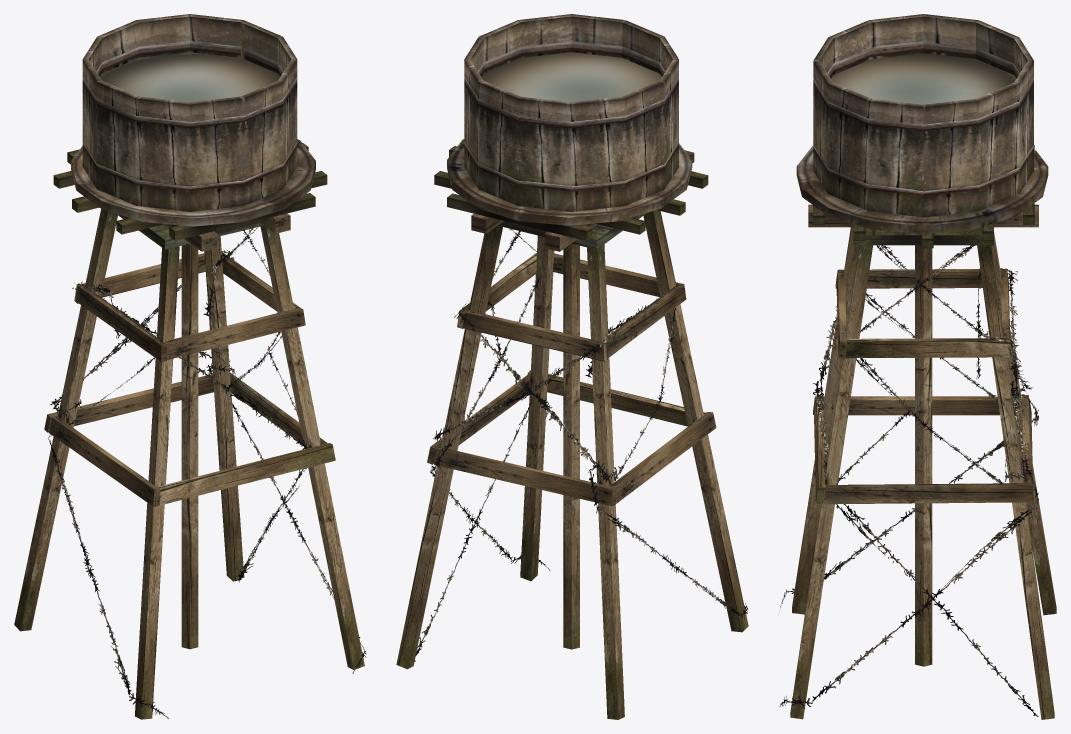
File: WaterTower.FBX
3 renders of one model, left to right at view 1: azimuth 30°, elevation 25°; view 2: azimuth 150°, elevation 25°; view 3: azimuth 270°, elevation 25°, orthographic. The views are drawn at different scales.
Parts seen in each view (by area): view 1: WaterTower; view 2: WaterTower; view 3: WaterTower.
Boxes of the visible parts, x1,y1,x2,y2 form: WaterTower: (14,14,366,719); WaterTower: (396,14,748,719); WaterTower: (779,14,1056,719).
Bounding box in the file's own units: 343 × 786 × 327.
1 material, 1 textured.
